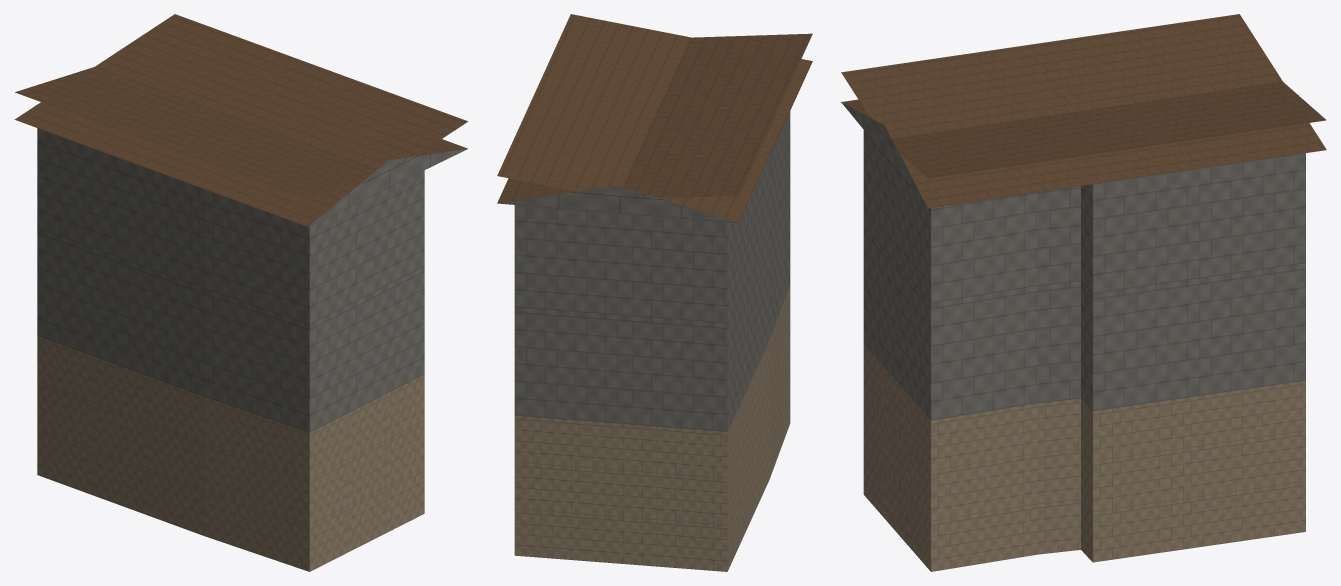
Rendered from bld_c32_46_245.gltf.
3 views of the same model, side by side, from view 1: azimuth 30°, elevation 25°; view 2: azimuth 150°, elevation 25°; view 3: azimuth 270°, elevation 25° (orthographic). The views are drawn at different scales.
Parts seen in each view (by area): view 1: bld_c32_46_245; view 2: bld_c32_46_245; view 3: bld_c32_46_245.
Boxes of the visible parts, <box> form: bld_c32_46_245: <box>14,14,467,571</box>; bld_c32_46_245: <box>497,14,812,571</box>; bld_c32_46_245: <box>841,14,1326,571</box>.
Bounding box in the file's own units: 11.9 × 14 × 14.83.
4 materials, 4 textured.
